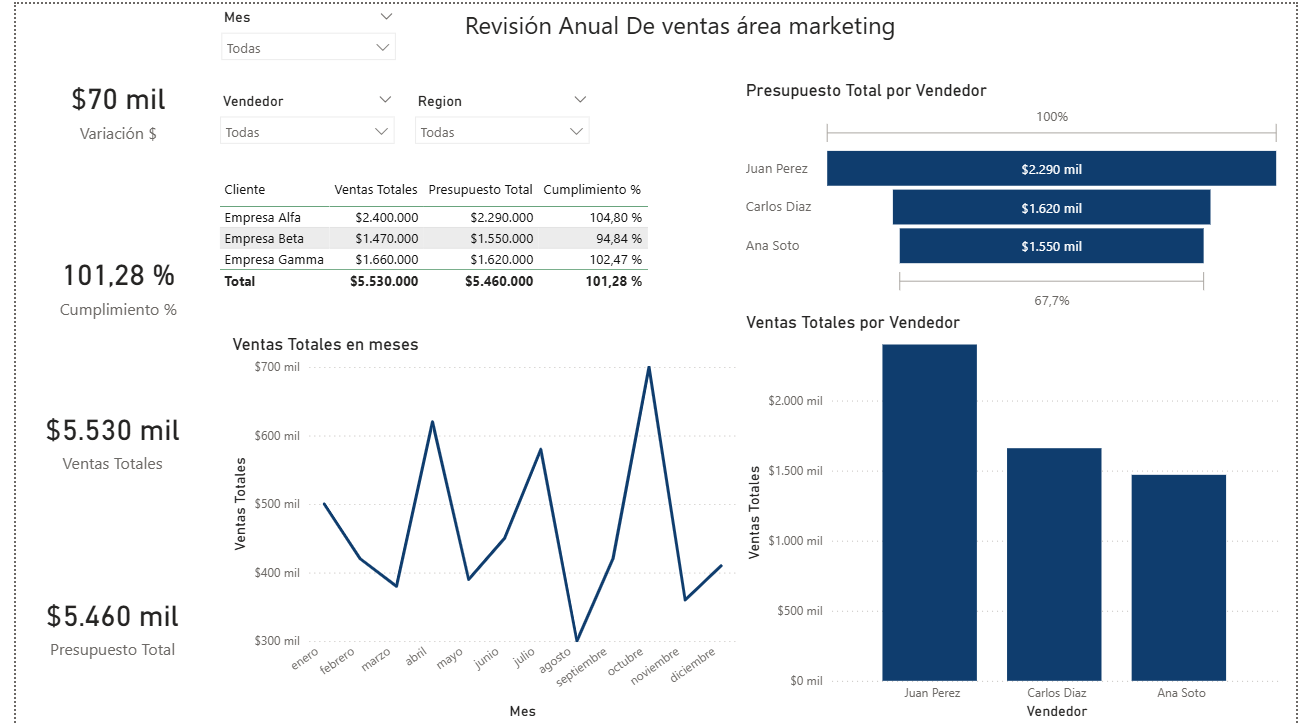

Layout of this report page (visuals, bound fields, positions):
{"tool":"powerbi","page":{"name":"Página 1","canvas":[1280,720],"ordinal":0},"visuals":[{"type":"card","fields":{"Values":["Medidas.Variación $"]},"box":[11,13.7,182.5,181.1],"z":0},{"type":"card","fields":{"Values":["Medidas.Cumplimiento %"]},"box":[11,194.9,182.5,170.2],"z":1},{"type":"card","fields":{"Values":["Medidas.Ventas Totales"]},"box":[0,347.2,193.5,174.3],"z":2},{"type":"card","fields":{"Values":["Medidas.Presupuesto Total"]},"box":[0,521.4,193.5,199],"z":3},{"type":"lineChart","title":"Ventas Totales en meses","fields":{"Y":["Medidas.Ventas Totales"],"Category":["Calendario.Date.Variación.Jerarquía de fechas.Mes"]},"box":[211.6,330.2,513.6,390.1],"z":4},{"type":"tableEx","fields":{"Values":["Clientes.Cliente","Medidas.Ventas Totales","Medidas.Presupuesto Total","Medidas.Cumplimiento %"]},"box":[198.1,168.8,441.4,138.2],"z":6},{"type":"clusteredColumnChart","fields":{"Category":["Ventas.Vendedor"],"Y":["Medidas.Ventas Totales"]},"box":[725.1,306.9,545.4,413.3],"z":7},{"type":"slicer","fields":{"Values":["Calendario.Date.Variación.Jerarquía de fechas.Mes"]},"box":[194.4,0,194.4,83.2],"z":8},{"type":"slicer","fields":{"Values":["Clientes.Region"]},"box":[388.9,83.2,194.4,74.6],"z":9},{"type":"slicer","fields":{"Values":["Ventas.Vendedor"]},"box":[193.2,83.2,194.4,85.6],"z":10},{"type":"funnel","fields":{"Category":["Ventas.Vendedor"],"Y":["Medidas.Presupuesto Total"]},"box":[725.1,75.8,545.4,234.8],"z":11},{"type":"textbox","box":[443.9,0,459.8,75.8],"z":12}]}

Visuals, with their boxes in screenshot pixels (x1, y1, x2, y2), scaled from the page's 1280x720 canvas onto the 1300x724 screenshot:
card - Medidas.Variación $: pyautogui.locateOnScreen(11, 14, 197, 196)
card - Medidas.Cumplimiento %: pyautogui.locateOnScreen(11, 196, 197, 367)
card - Medidas.Ventas Totales: pyautogui.locateOnScreen(0, 349, 197, 524)
card - Medidas.Presupuesto Total: pyautogui.locateOnScreen(0, 524, 197, 723)
"Ventas Totales en meses" lineChart: pyautogui.locateOnScreen(215, 332, 737, 723)
tableEx - Clientes.Cliente x Medidas.Ventas Totales: pyautogui.locateOnScreen(201, 170, 649, 309)
clusteredColumnChart - Ventas.Vendedor x Medidas.Ventas Totales: pyautogui.locateOnScreen(736, 309, 1290, 723)
slicer - Calendario.Date.Variación.Jerarquía de fechas.Mes: pyautogui.locateOnScreen(197, 0, 395, 84)
slicer - Clientes.Region: pyautogui.locateOnScreen(395, 84, 592, 159)
slicer - Ventas.Vendedor: pyautogui.locateOnScreen(196, 84, 394, 170)
funnel - Ventas.Vendedor x Medidas.Presupuesto Total: pyautogui.locateOnScreen(736, 76, 1290, 312)
textbox: pyautogui.locateOnScreen(451, 0, 918, 76)
